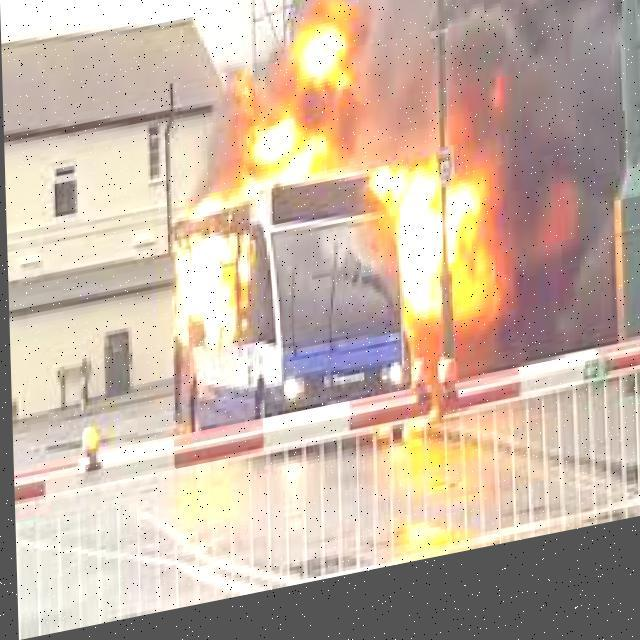Fire: (168, 0, 382, 233), (361, 148, 504, 386), (160, 220, 258, 360)
